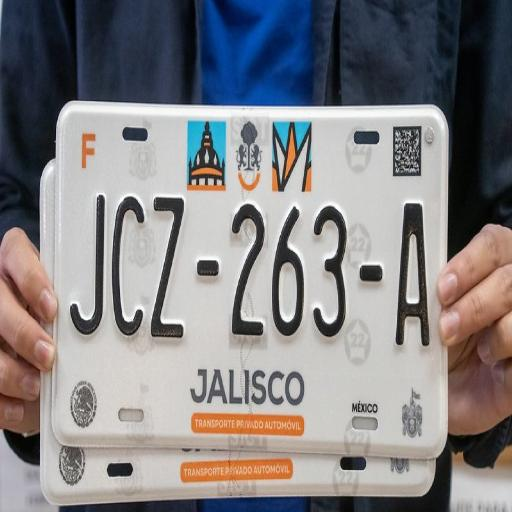estado_mexico_placas: (188, 361, 306, 411)
placas: (70, 193, 105, 335), (395, 203, 429, 344), (111, 195, 144, 335), (231, 202, 265, 336), (151, 198, 183, 336), (313, 204, 346, 335), (272, 205, 303, 335), (197, 260, 218, 274), (360, 266, 381, 279)
